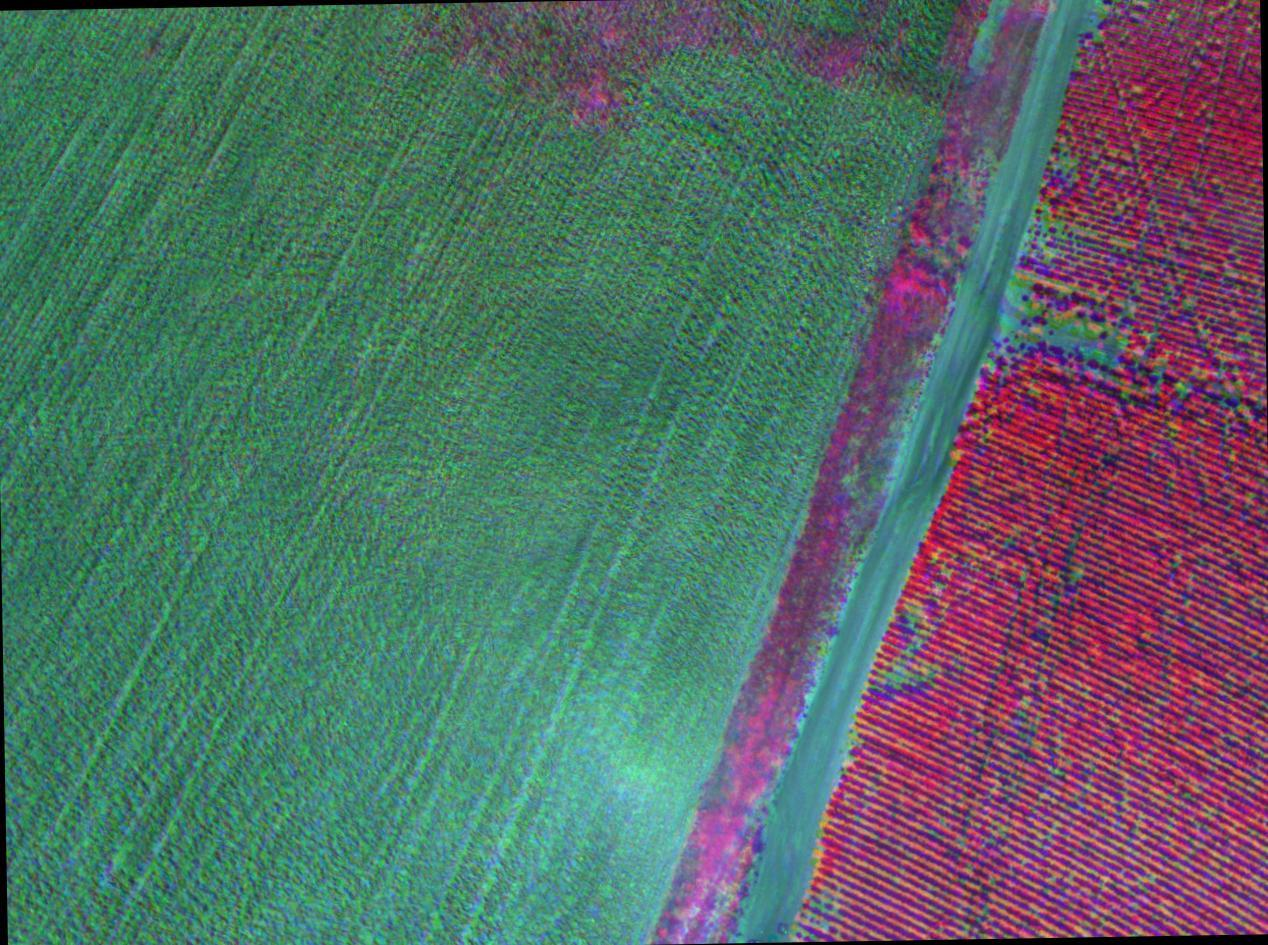dc: (1078, 333, 1086, 341), (1022, 308, 1030, 315), (1178, 384, 1183, 391), (1065, 159, 1070, 165), (1047, 250, 1052, 256), (1050, 337, 1055, 343), (894, 675, 899, 681), (1121, 240, 1126, 245), (1124, 303, 1128, 309), (823, 921, 827, 927), (1100, 8, 1104, 13), (911, 618, 915, 622), (1054, 770, 1058, 774), (811, 902, 815, 906)
